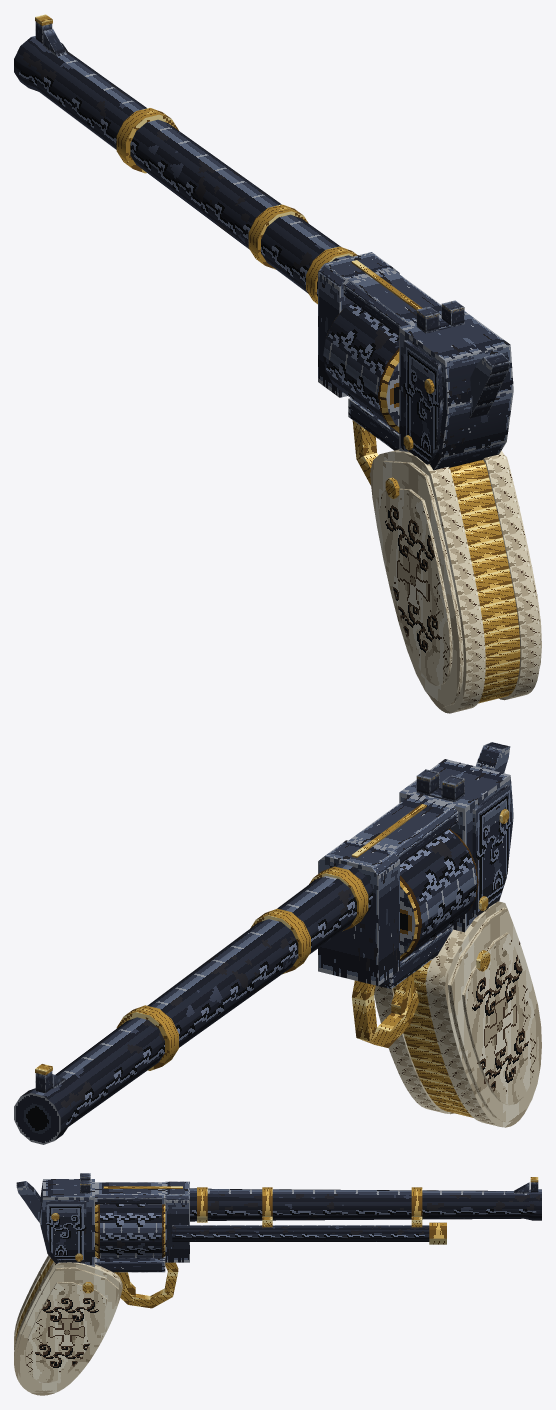
File: pistol_duelist_base.glb
The picture shows the model from 3 angles, top to bottom: view 1: azimuth 30°, elevation 25°; view 2: azimuth 150°, elevation 25°; view 3: azimuth 270°, elevation 25°; orthographic projection. The views are drawn at different scales.
Parts seen in each view (by area): view 1: frame, magazine, hammer; view 2: frame, magazine, hammer; view 3: frame, magazine, hammer.
Part boxes in pixels (bbox=[...]): frame: bbox=[14, 14, 541, 713]; magazine: bbox=[323, 302, 399, 432]; hammer: bbox=[469, 353, 510, 418]; frame: bbox=[14, 759, 541, 1144]; magazine: bbox=[400, 829, 478, 960]; hammer: bbox=[476, 742, 510, 773]; frame: bbox=[14, 1173, 541, 1395]; magazine: bbox=[95, 1204, 165, 1258]; hammer: bbox=[16, 1181, 41, 1222].
Size of the model in its own units: 0.0379 by 0.1297 by 0.3.
2 materials, 2 textured.
